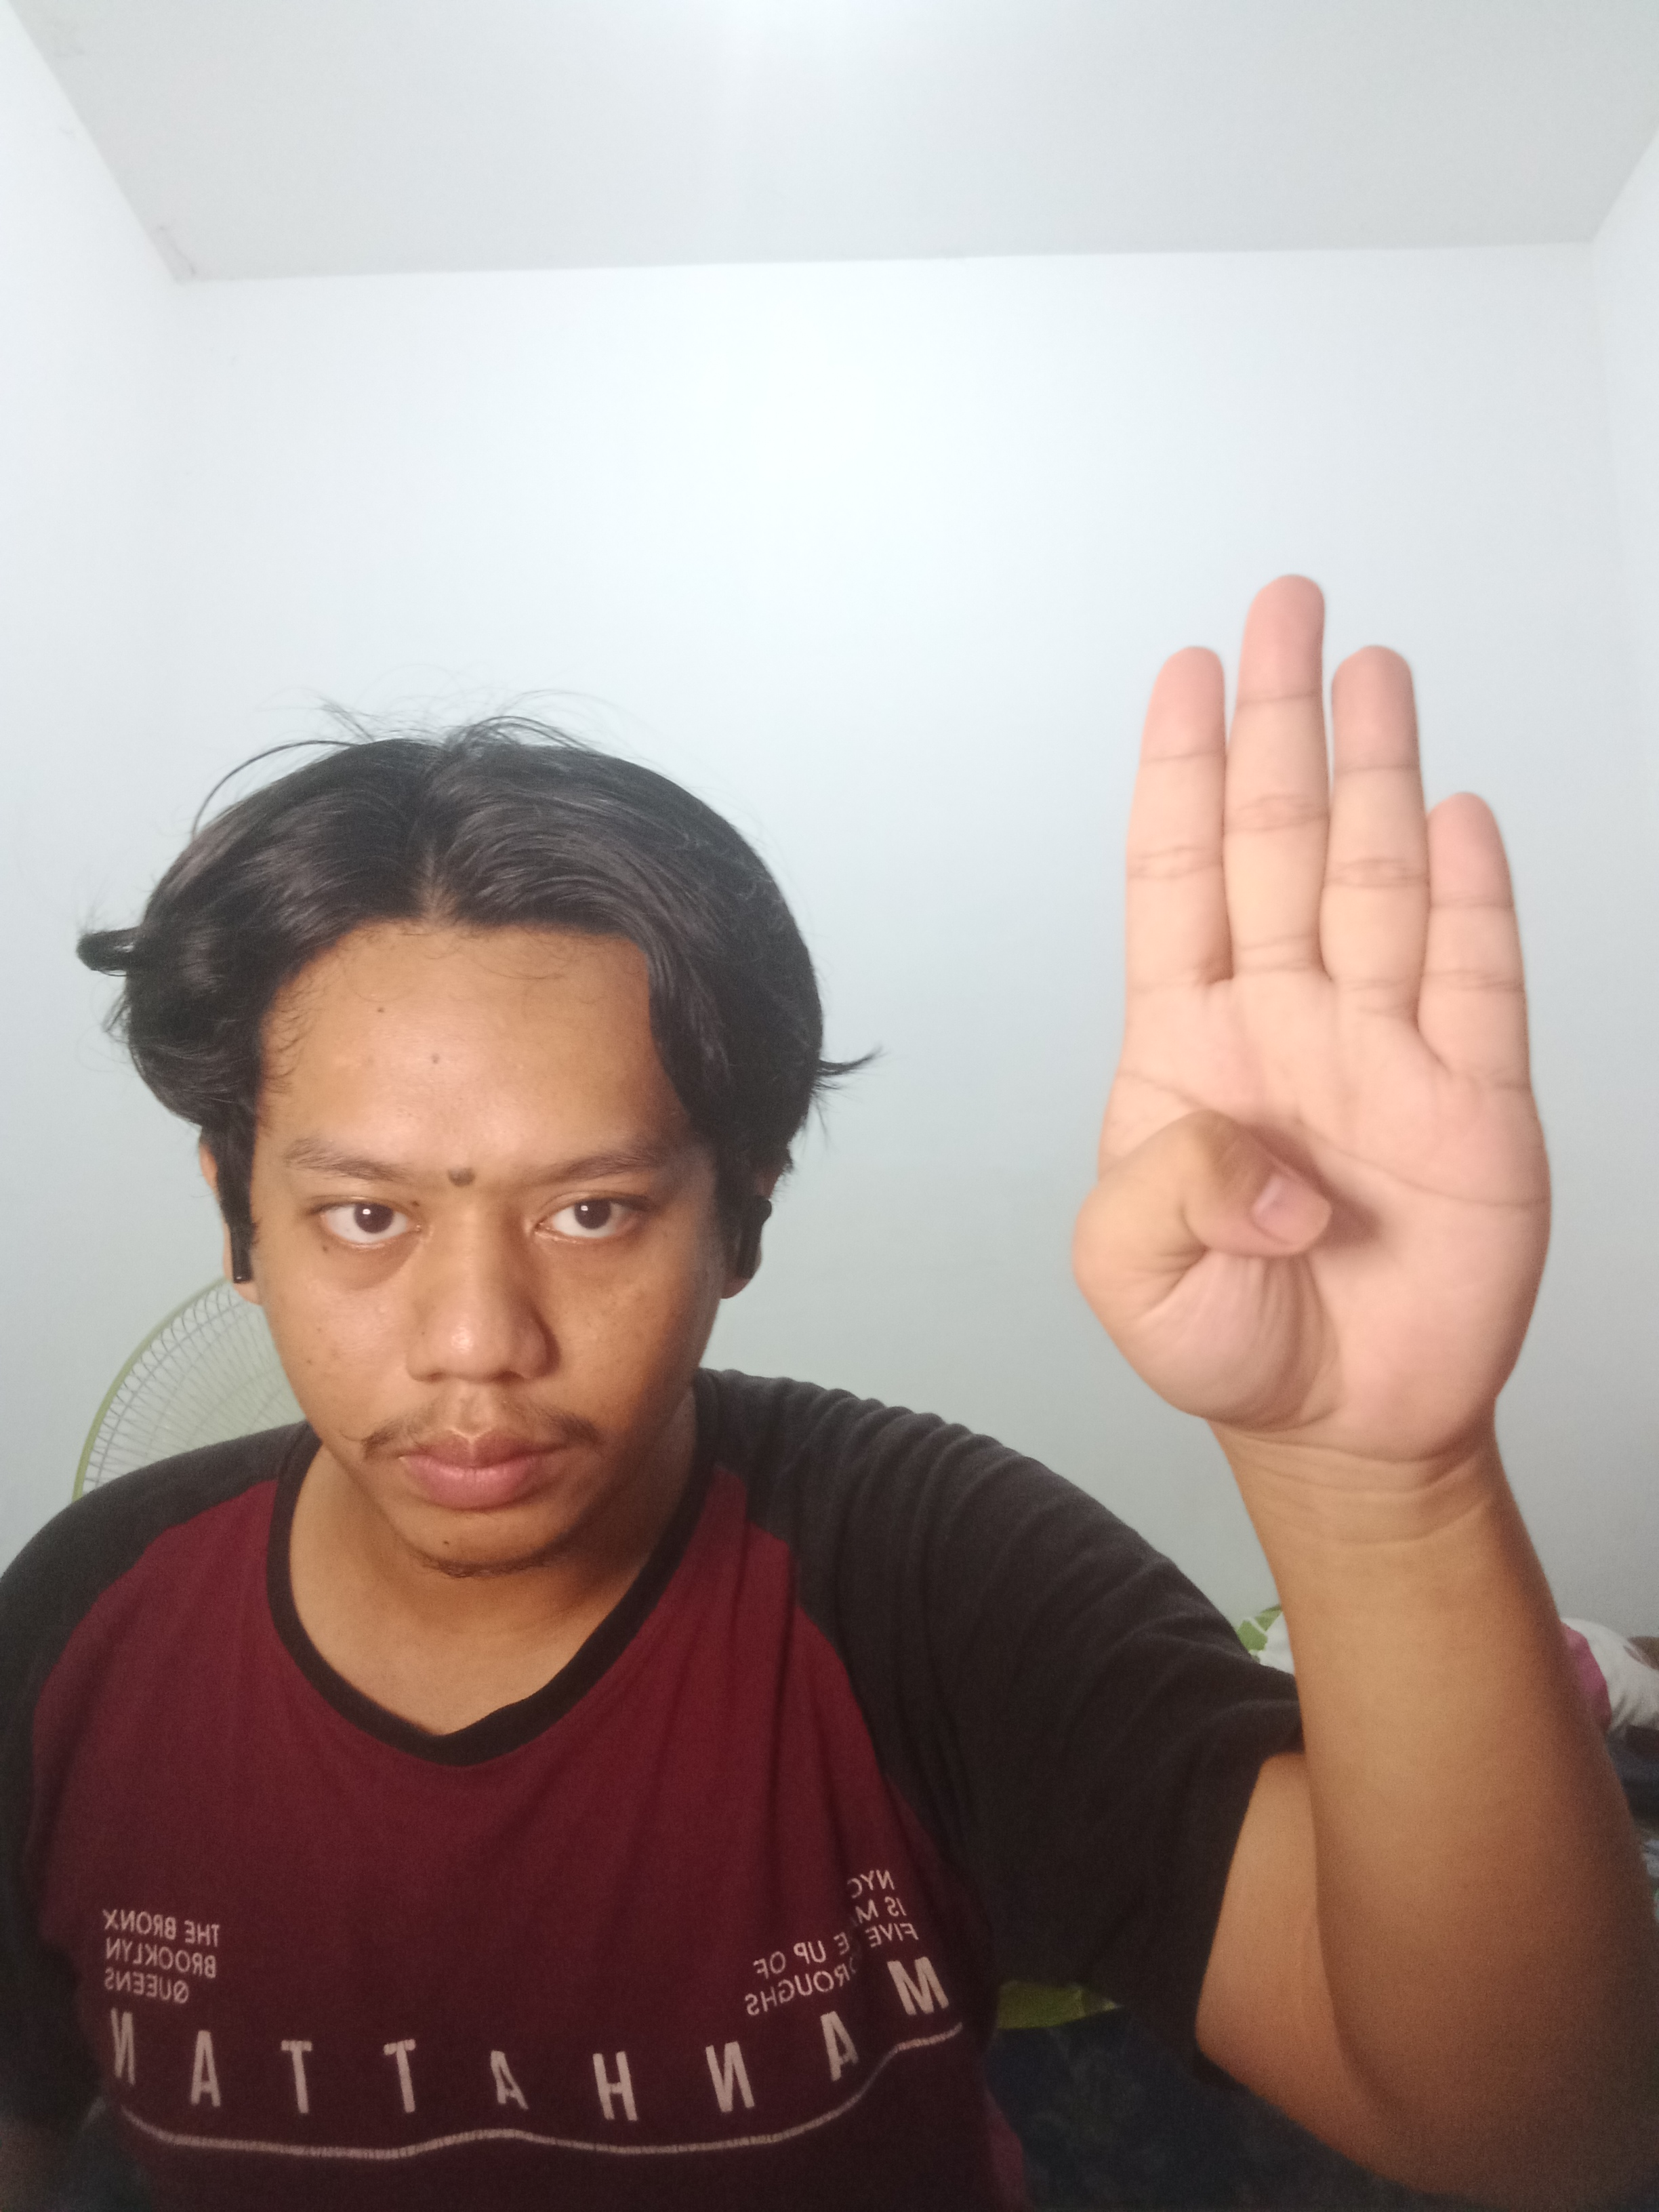B: (1065, 528, 1558, 1453)
